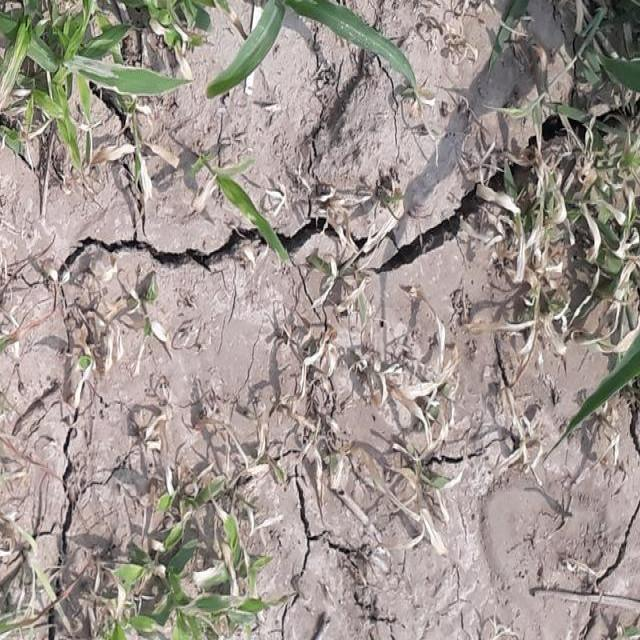weed: (0, 0, 173, 184), (118, 483, 256, 640)
